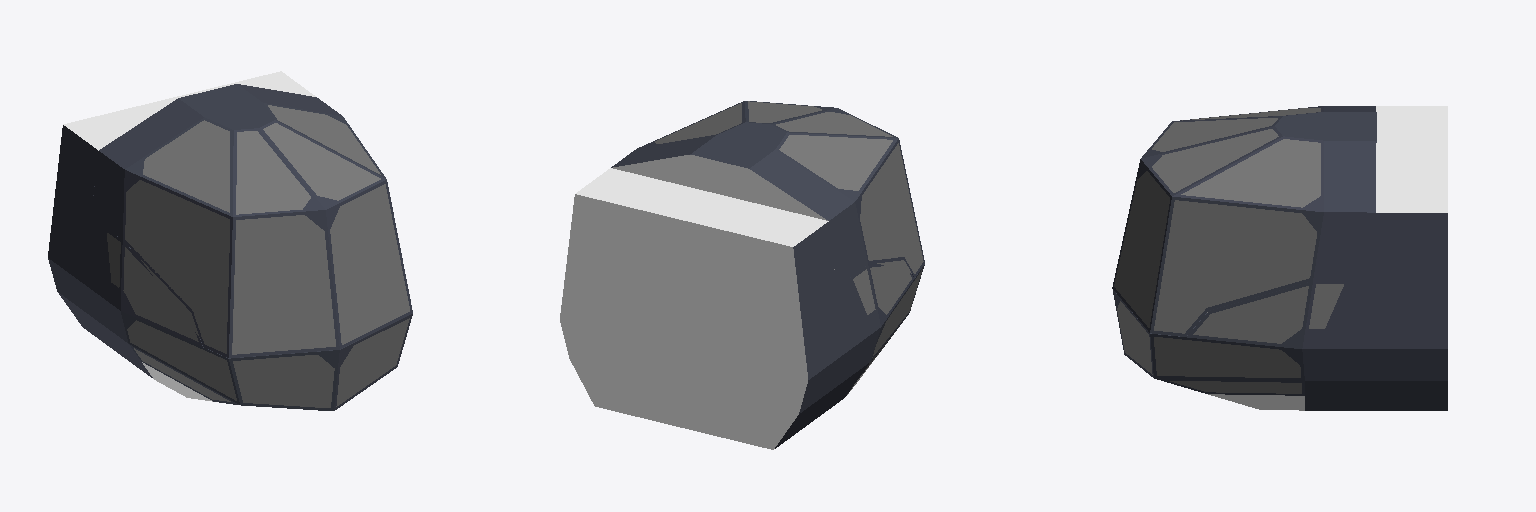
The model's file is Cockpit.obj.
3 views of the same model, side by side, from view 1: azimuth 30°, elevation 25°; view 2: azimuth 150°, elevation 25°; view 3: azimuth 270°, elevation 25° (orthographic).
Parts seen in each view (by area): view 1: Mesh1 Group2 Group1 Model, Mesh2 Group3 Group1 Model, Mesh4 Group1 Model, Mesh3 Group4 Group1 Model; view 2: Mesh4 Group1 Model, Mesh1 Group2 Group1 Model, Mesh2 Group3 Group1 Model; view 3: Mesh1 Group2 Group1 Model, Mesh3 Group4 Group1 Model, Mesh4 Group1 Model.
Part boxes in pixels (left/top/right/bottom): Mesh1 Group2 Group1 Model: left=91, top=84, right=412, bottom=357; Mesh2 Group3 Group1 Model: left=66, top=205, right=339, bottom=410; Mesh4 Group1 Model: left=48, top=71, right=315, bottom=401; Mesh3 Group4 Group1 Model: left=334, top=314, right=412, bottom=410; Mesh4 Group1 Model: left=560, top=168, right=881, bottom=449; Mesh1 Group2 Group1 Model: left=611, top=101, right=924, bottom=286; Mesh2 Group3 Group1 Model: left=819, top=263, right=924, bottom=392; Mesh1 Group2 Group1 Model: left=1112, top=106, right=1376, bottom=336; Mesh3 Group4 Group1 Model: left=1113, top=281, right=1410, bottom=395; Mesh4 Group1 Model: left=1187, top=106, right=1447, bottom=410.
Bounding box in the file's own units: 1.55 × 1.55 × 1.81.